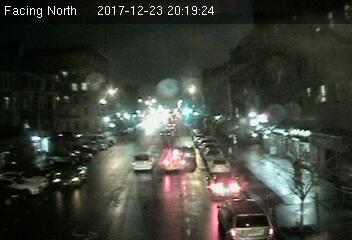car: (216, 197, 273, 240), (205, 173, 241, 198), (52, 164, 89, 187), (132, 151, 154, 171), (207, 158, 233, 173)
